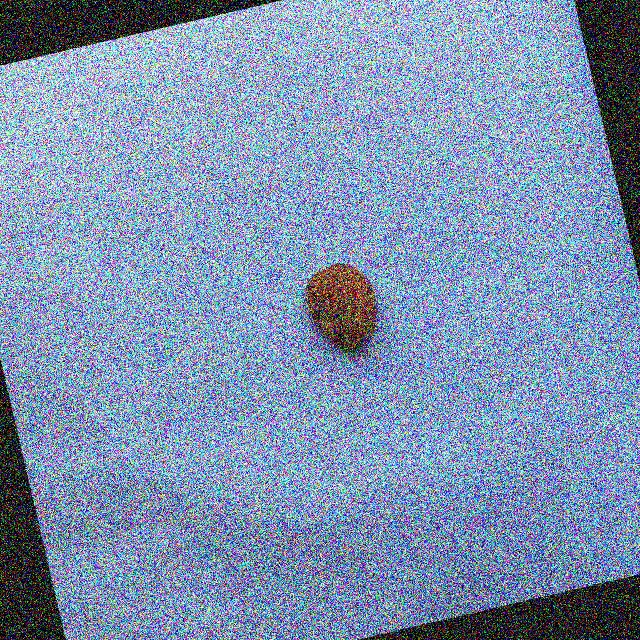grade3: (294, 252, 389, 365)
